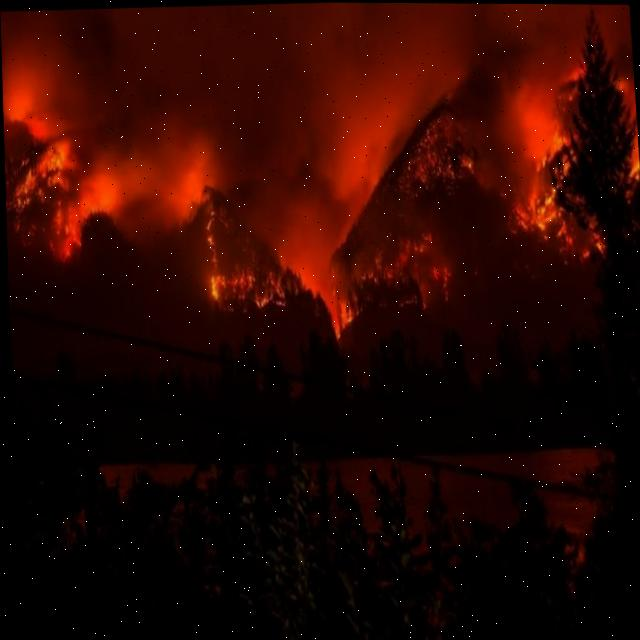smoke: (0, 2, 636, 341)
